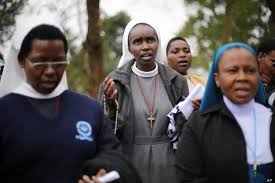Person: (2, 21, 102, 183), (196, 44, 273, 183), (104, 22, 168, 183), (166, 36, 204, 104)
